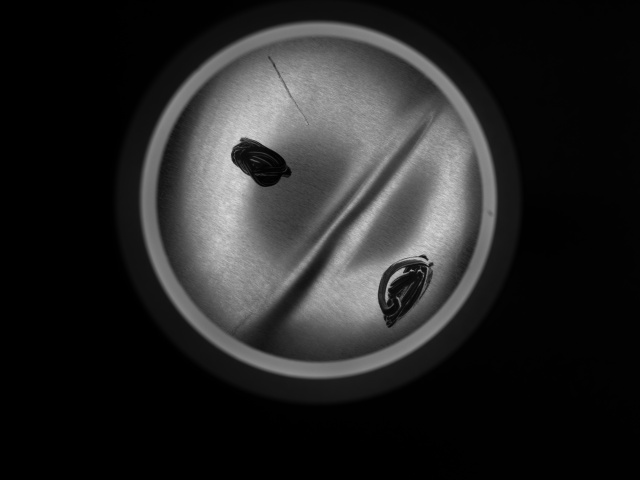ca_shang: (262, 55, 314, 131)
zang_wu: (375, 251, 437, 330), (228, 134, 296, 189)
zhe_zhou: (196, 67, 439, 332)
